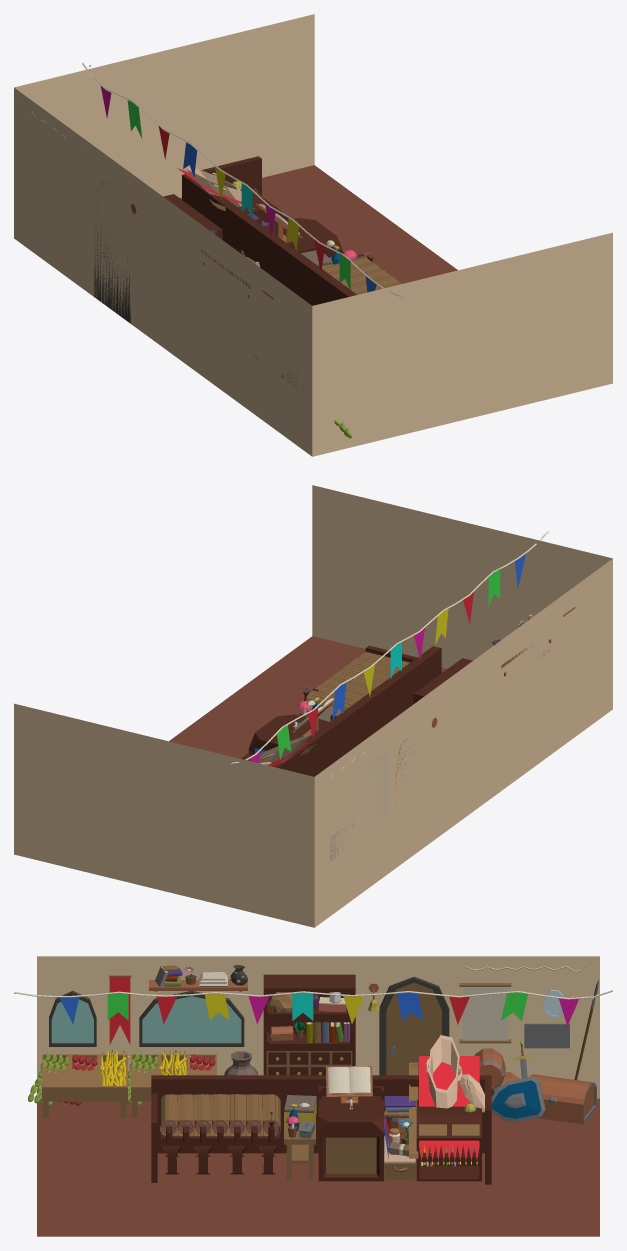
The model's file is level without lights1.fbx.
3 views of the same model, one above another, from view 1: azimuth 30°, elevation 25°; view 2: azimuth 150°, elevation 25°; view 3: azimuth 270°, elevation 25° (orthographic). The views are drawn at different scales.
Visible parts, largest first — view 1: Cube, Parede recepçao, Cube.002, Porta, Mesa do meio, Corda com fitas, Plane, Cube.026; view 2: Cube, Parede recepçao, Cube.002, Mesa do meio, Corda com fitas, Plane, Estante.001; view 3: Cube, Parede recepçao, Estante.001, Mesa do meio, Porta, Janela grande, Mesa direita, Cube.002, Caixas de frutas.002, Mesa tapete rolante, Plane, Plane.001 (+28 smaller).
Boxes of the visible parts, box(x1,y1,x2,y2) form: Cube: box(14, 14, 612, 456); Parede recepçao: box(182, 156, 356, 305); Cube.002: box(322, 257, 401, 294); Porta: box(94, 181, 130, 323); Mesa do meio: box(255, 218, 343, 257); Corda com fitas: box(82, 63, 402, 297); Plane: box(62, 155, 88, 231); Cube.026: box(183, 165, 241, 206); Cube: box(14, 485, 612, 927); Parede recepçao: box(273, 645, 441, 776); Cube.002: box(305, 652, 409, 711); Mesa do meio: box(248, 714, 336, 754); Corda com fitas: box(231, 531, 548, 763); Plane: box(361, 751, 388, 830); Estante.001: box(413, 658, 472, 703); Cube: box(37, 956, 599, 1236); Parede recepçao: box(151, 1075, 491, 1184); Estante.001: box(263, 974, 355, 1075); Mesa do meio: box(318, 1086, 383, 1181); Porta: box(379, 976, 449, 1075); Janela grande: box(139, 991, 244, 1046); Mesa direita: box(416, 1094, 481, 1181); Cube.002: box(160, 1094, 280, 1136); Caixas de frutas.002: box(42, 1054, 127, 1117); Mesa tapete rolante: box(160, 1121, 280, 1174); Plane: box(459, 983, 511, 1043); Plane.001: box(419, 1056, 479, 1164).
Size of the model in its own units: 501 by 244 by 916.
